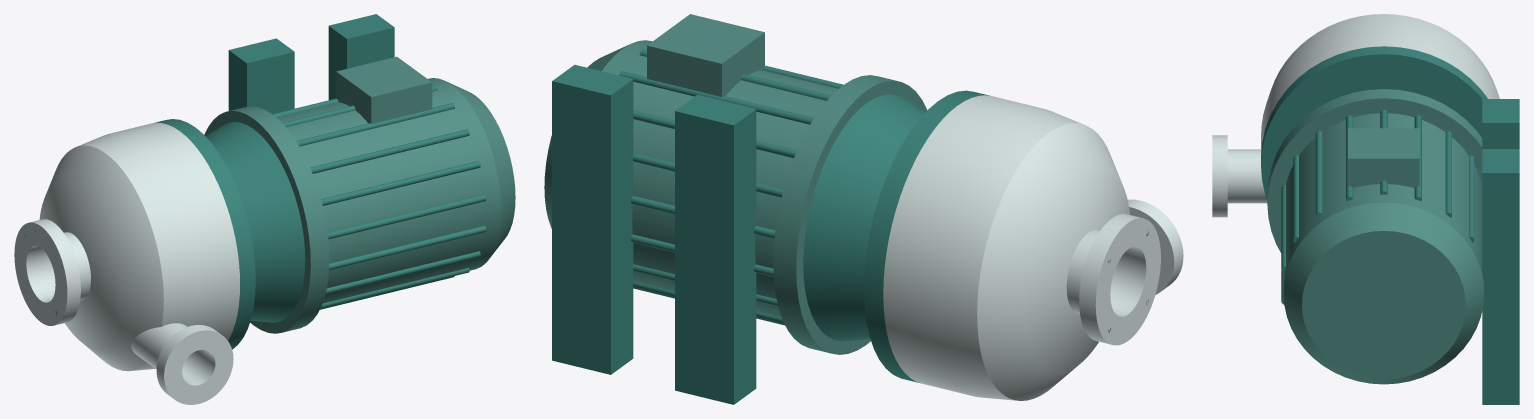
The picture shows the model from 3 angles, left to right: view 1: azimuth 30°, elevation 25°; view 2: azimuth 150°, elevation 25°; view 3: azimuth 270°, elevation 25°; orthographic projection. The views are drawn at different scales.
Visible parts, largest first — view 1: 泵体_圆弧壳与轴向进液口, 电机_带筋机壳, 连接座_短连接段, 支脚_电机底脚, 电机_连接法兰, 电机_接线盒, 接口_朝上出液法兰, 连接座_泵壳连接环, 电机_圆弧尾罩, 接口_偏置竖向出液管, 电机_散热筋04, 电机_散热筋05 (+6 smaller); view 2: 泵体_圆弧壳与轴向进液口, 支脚_电机底脚, 连接座_短连接段, 电机_带筋机壳, 电机_连接法兰, 电机_接线盒, 连接座_泵壳连接环, 接口_朝上出液法兰, 电机_散热筋18, 电机_圆弧尾罩, 电机_散热筋17, 电机_散热筋01 (+2 smaller); view 3: 电机_圆弧尾罩, 支脚_电机底脚, 电机_带筋机壳, 连接座_泵壳连接环, 泵体_圆弧壳与轴向进液口, 电机_连接法兰, 电机_接线盒, 接口_偏置竖向出液管, 接口_朝上出液法兰, 电机_散热筋03, 电机_散热筋17, 电机_散热筋04 (+4 smaller).
Part boxes in pixels (x1,y1,x2,y2): 泵体_圆弧壳与轴向进液口: (14, 122, 239, 371); 电机_带筋机壳: (276, 78, 500, 303); 连接座_短连接段: (205, 122, 305, 322); 支脚_电机底脚: (228, 14, 394, 113); 电机_连接法兰: (204, 106, 329, 333); 电机_接线盒: (336, 56, 432, 123); 接口_朝上出液法兰: (156, 325, 233, 404); 连接座_泵壳连接环: (153, 119, 255, 349); 电机_圆弧尾罩: (447, 82, 515, 257); 接口_偏置竖向出液管: (131, 323, 207, 379); 电机_散热筋04: (321, 161, 480, 205); 电机_散热筋05: (328, 194, 486, 239); 泵体_圆弧壳与轴向进液口: (883, 95, 1160, 400); 支脚_电机底脚: (552, 64, 756, 404); 连接座_短连接段: (803, 94, 925, 341); 电机_带筋机壳: (602, 40, 838, 317); 电机_连接法兰: (773, 75, 927, 354); 电机_接线盒: (647, 14, 764, 96); 连接座_泵壳连接环: (864, 90, 990, 382); 接口_朝上出液法兰: (1127, 199, 1183, 294); 电机_散热筋18: (619, 71, 813, 124); 电机_圆弧尾罩: (544, 45, 628, 228); 电机_散热筋17: (633, 110, 797, 158); 电机_散热筋01: (639, 49, 831, 100); 电机_圆弧尾罩: (1283, 202, 1484, 384); 支脚_电机底脚: (1482, 99, 1519, 404); 电机_带筋机壳: (1283, 113, 1484, 290); 连接座_泵壳连接环: (1261, 46, 1487, 199); 泵体_圆弧壳与轴向进液口: (1261, 14, 1499, 154); 电机_连接法兰: (1267, 89, 1482, 252); 电机_接线盒: (1348, 128, 1419, 188); 接口_偏置竖向出液管: (1227, 149, 1267, 203); 接口_朝上出液法兰: (1212, 135, 1227, 217); 电机_散热筋03: (1315, 131, 1322, 217); 电机_散热筋17: (1445, 131, 1451, 217); 电机_散热筋04: (1293, 155, 1298, 242).
Size of the model in its own units: 0.417 by 0.2083 by 0.25.
